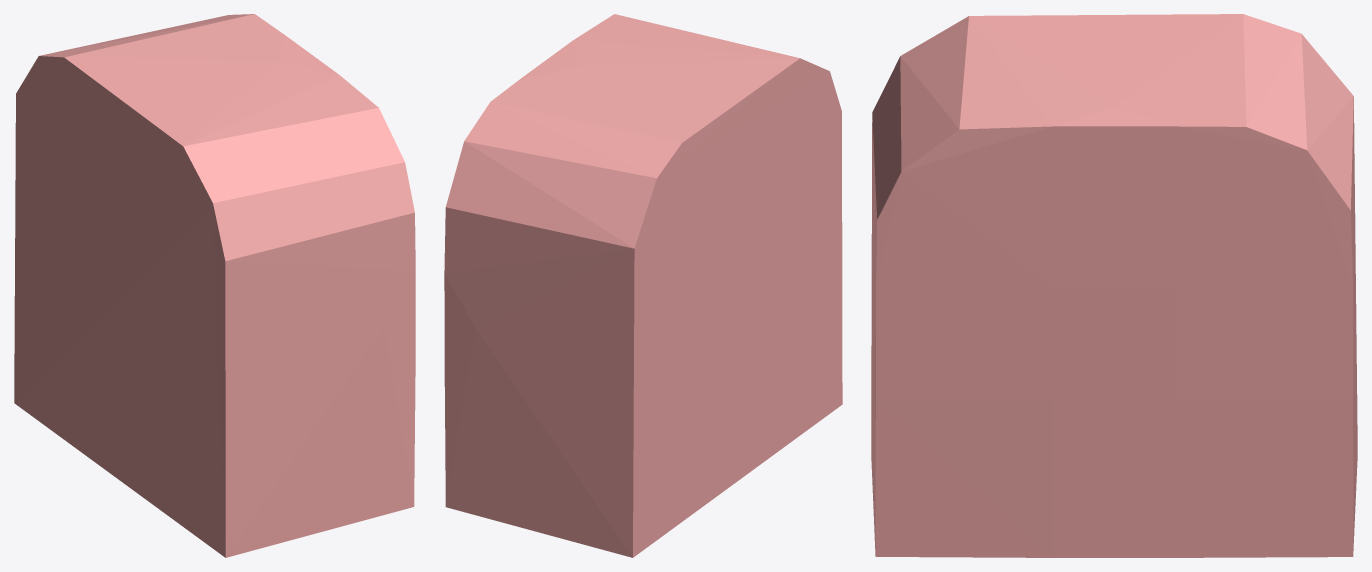
The model's file is exported_panda_rightPad_coll_1.dae.
3 renders of one model, left to right at view 1: azimuth 30°, elevation 25°; view 2: azimuth 150°, elevation 25°; view 3: azimuth 270°, elevation 25°, orthographic. The views are drawn at different scales.
Parts seen in each view (by area): view 1: node; view 2: node; view 3: node.
Part boxes in pixels (left/top/right/bottom): node: left=14, top=14, right=415, bottom=557; node: left=444, top=14, right=842, bottom=557; node: left=871, top=14, right=1357, bottom=557.
Size of the model in its own units: 0.00924 by 0.0174 by 0.0175.
